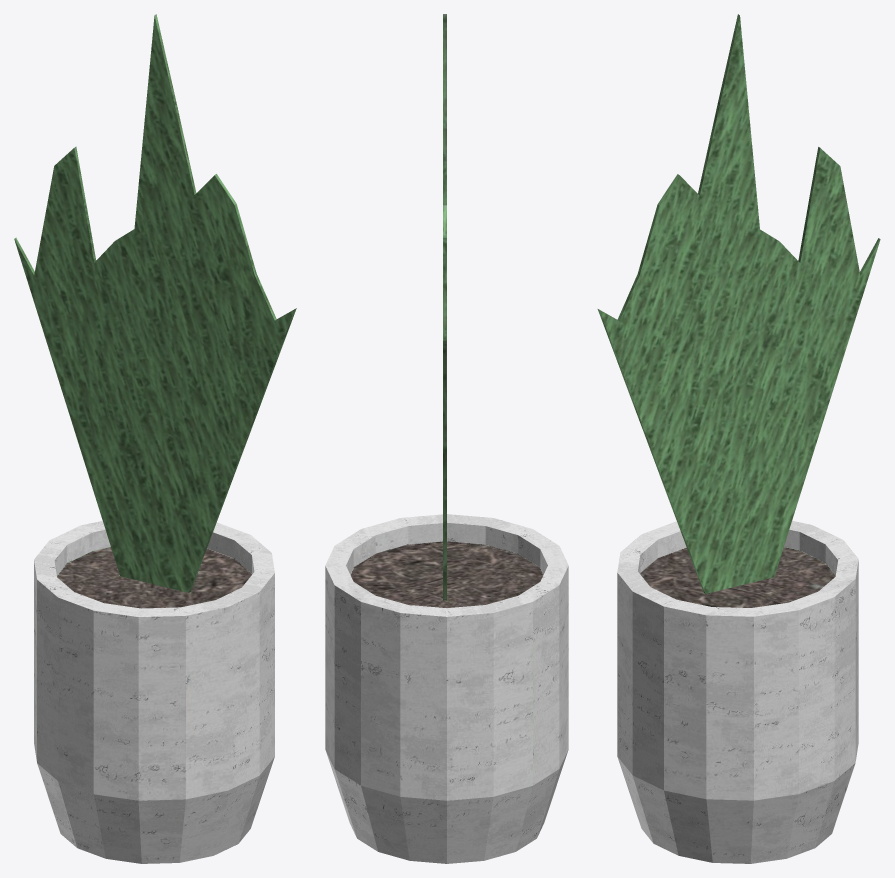
Rendered from plant1.fbx.
3 views of the same model, side by side, from view 1: azimuth 30°, elevation 25°; view 2: azimuth 150°, elevation 25°; view 3: azimuth 270°, elevation 25° (orthographic).
Visible parts, largest first — view 1: Plant1; view 2: Plant1; view 3: Plant1.
Boxes of the visible parts, x1,y1,x2,y2 form: Plant1: (14, 14, 296, 863); Plant1: (325, 14, 568, 863); Plant1: (597, 14, 880, 863).
Bounding box in the file's own units: 59.49 × 220 × 69.78.
Materials: 1 (1 with a texture image).
